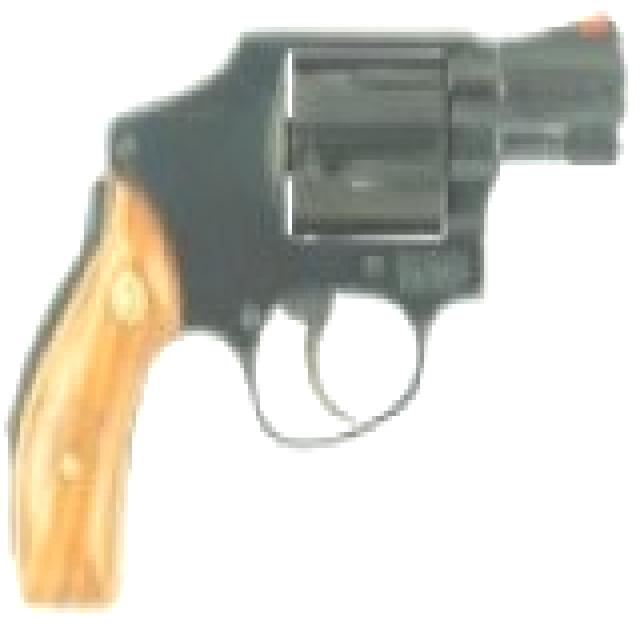pistol: (4, 10, 620, 602)
